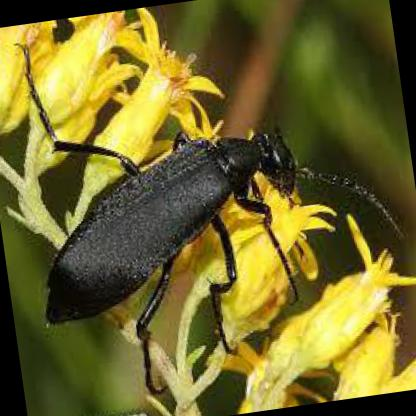blister beetle: (41, 129, 404, 338)
